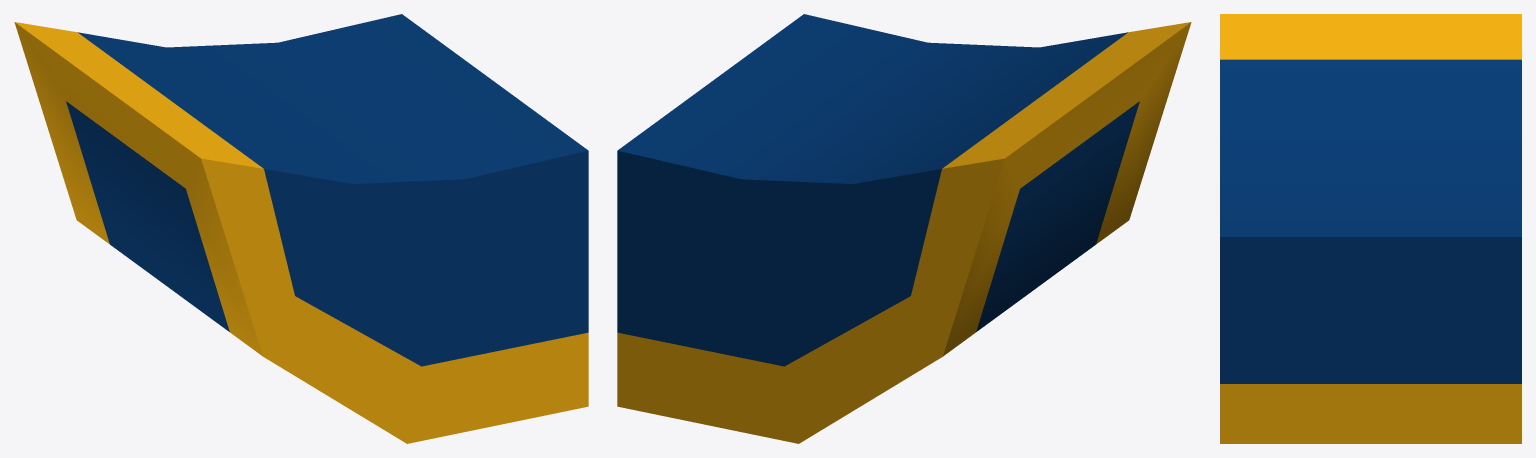
The model's file is Shoulder 12.FBX.
3 renders of one model, left to right at view 1: azimuth 30°, elevation 25°; view 2: azimuth 150°, elevation 25°; view 3: azimuth 270°, elevation 25°, orthographic. The views are drawn at different scales.
Visible parts, largest first — view 1: Shoulder 12; view 2: Shoulder 12; view 3: Shoulder 12.
Boxes of the visible parts, x1,y1,x2,y2 form: Shoulder 12: (14, 14, 588, 443); Shoulder 12: (617, 14, 1191, 443); Shoulder 12: (1220, 14, 1521, 443).
Size of the model in its own units: 24.4 by 20.61 by 20.35.
1 material, 1 textured.
